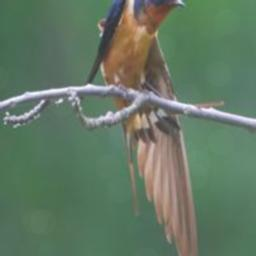Swallow: (77, 0, 202, 256)
